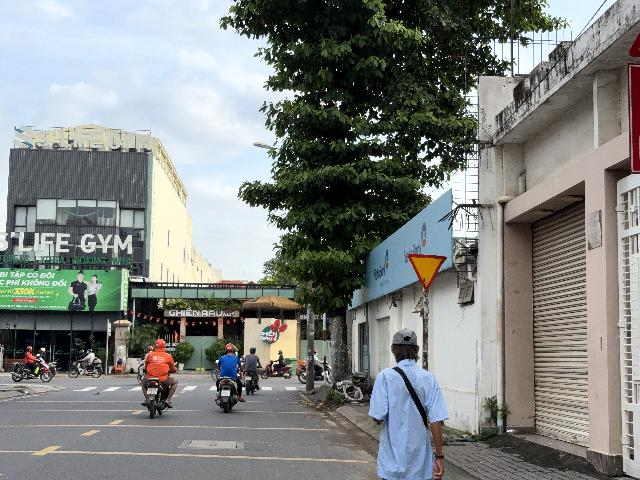giao-nhau-voi-duong-uu-tien: (408, 254, 447, 290)
